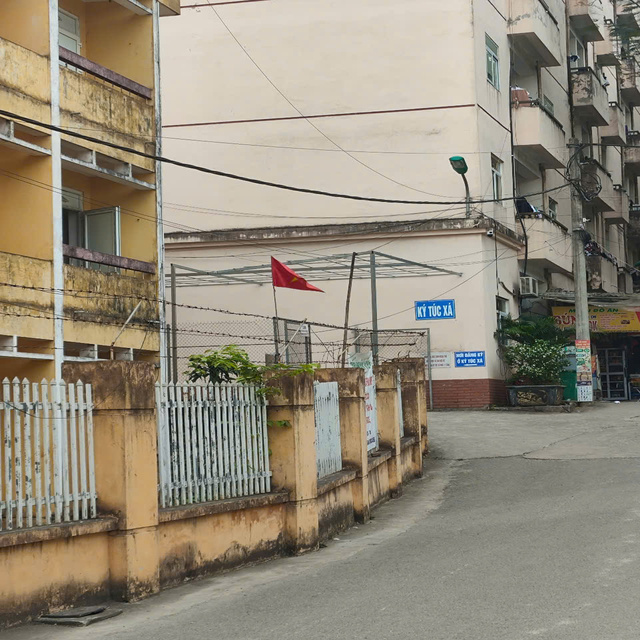laco: (265, 250, 321, 299)
